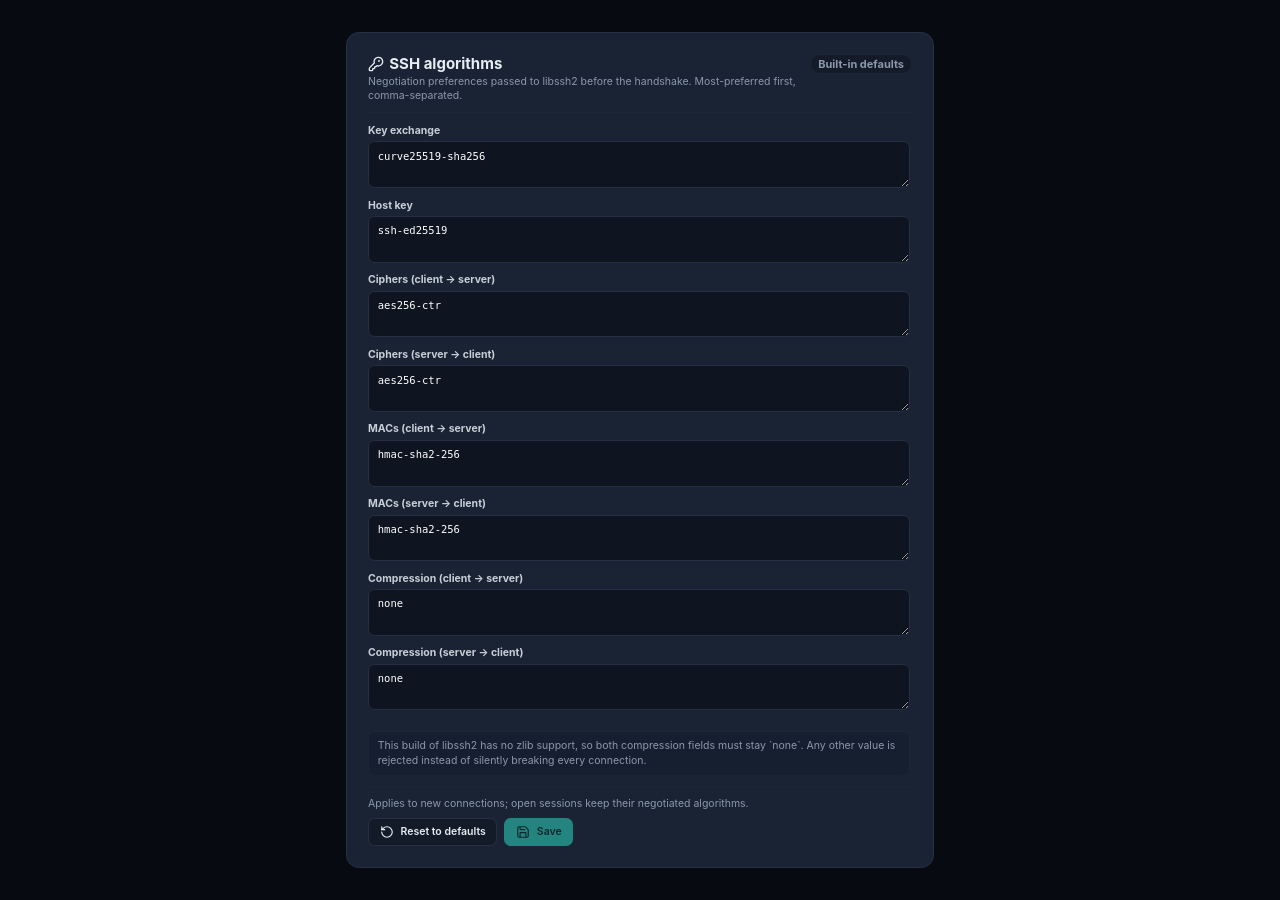
Test: AlgoPrefsDialog › reports the defaults state and keeps Save disabled until edited
Expected: the text "Built-in defaults" is shown, [810,54,912,74]
Expected: the button "Save" is disabled, [504,818,573,846]
Replace the text in the text box labelled "Key exchange" with "curve25519-sha256,curve25519-sha256@libssh.org" at (639, 165), box [368,141,910,188]
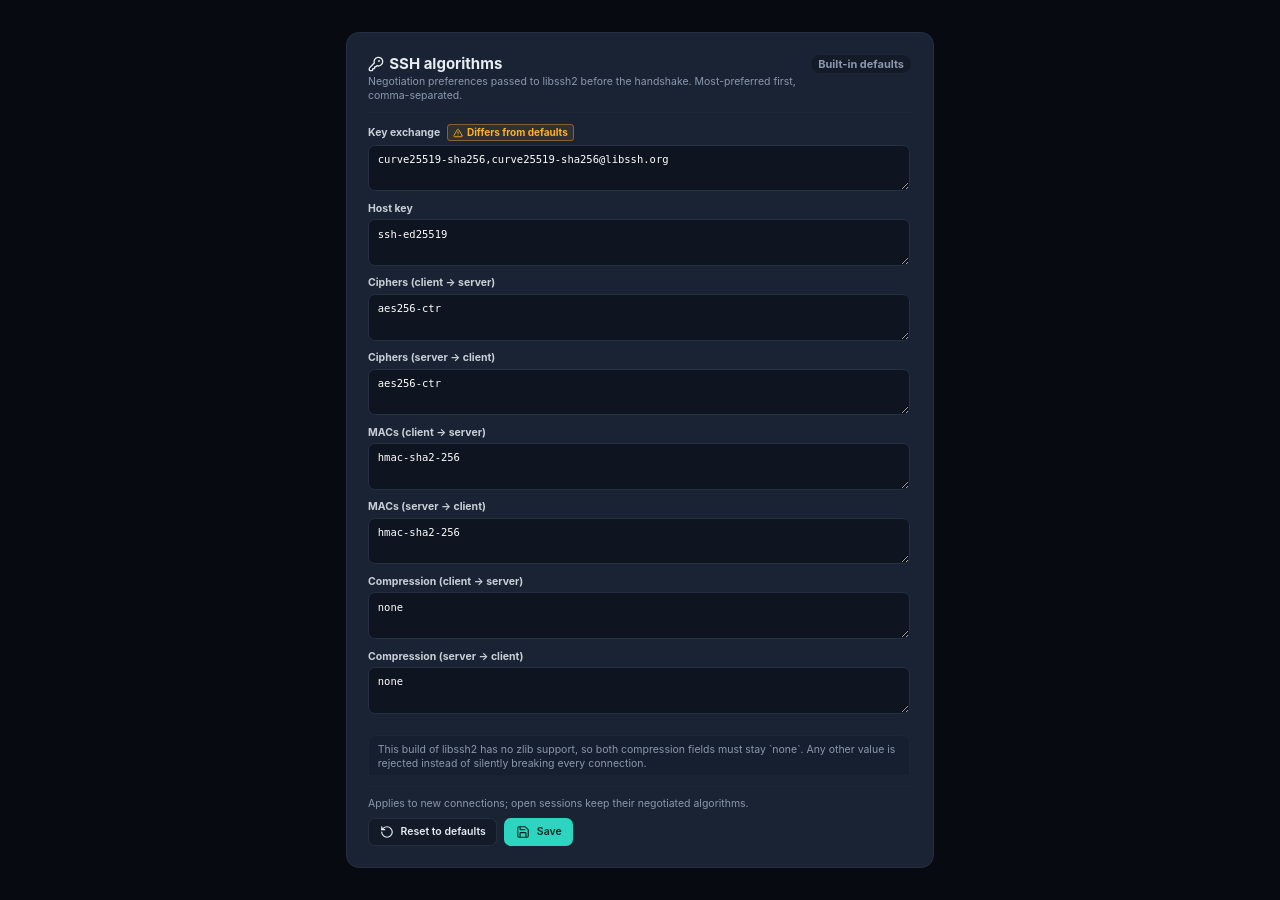
Expected: the button "Save" is enabled, [504,818,573,846]
Expected: the text "Differs from defaults" is shown once, [447,124,574,141]
